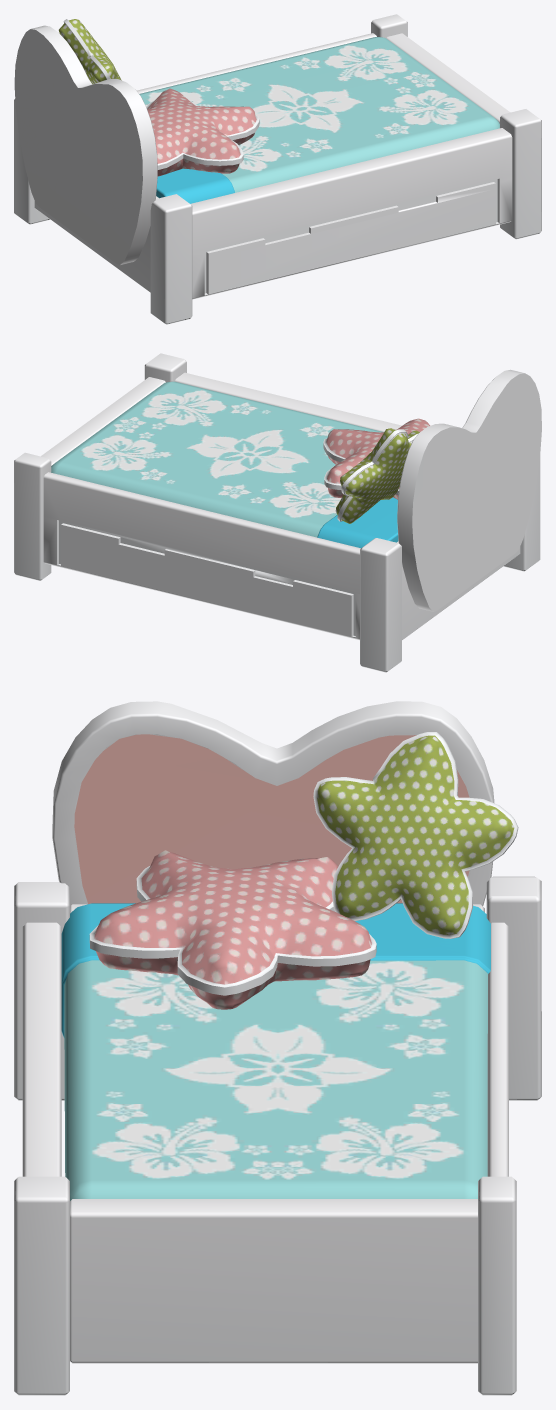
The model's file is Bed.fbx.
3 renders of one model, top to bottom at view 1: azimuth 30°, elevation 25°; view 2: azimuth 150°, elevation 25°; view 3: azimuth 270°, elevation 25°, orthographic. The views are drawn at different scales.
Parts seen in each view (by area): view 1: Bed; view 2: Bed; view 3: Bed.
Boxes of the visible parts, <box> form: Bed: <box>14,14,541,324</box>; Bed: <box>14,353,541,672</box>; Bed: <box>14,701,541,1395</box>.
Size of the model in its own units: 20.61 by 10.77 by 14.01.
4 materials, 4 textured.
